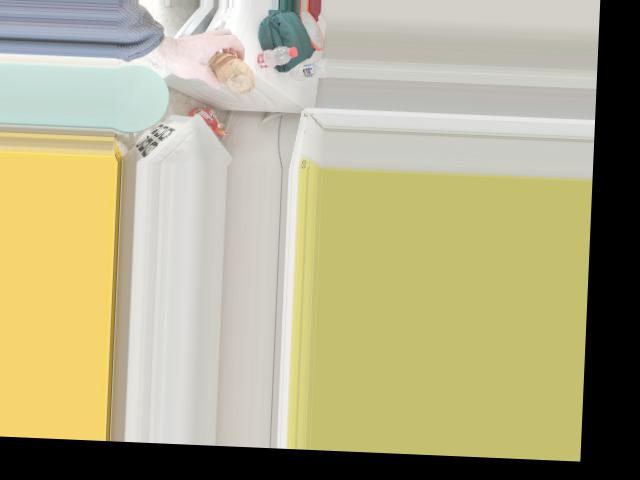sweet_potato: (207, 52, 257, 93)
